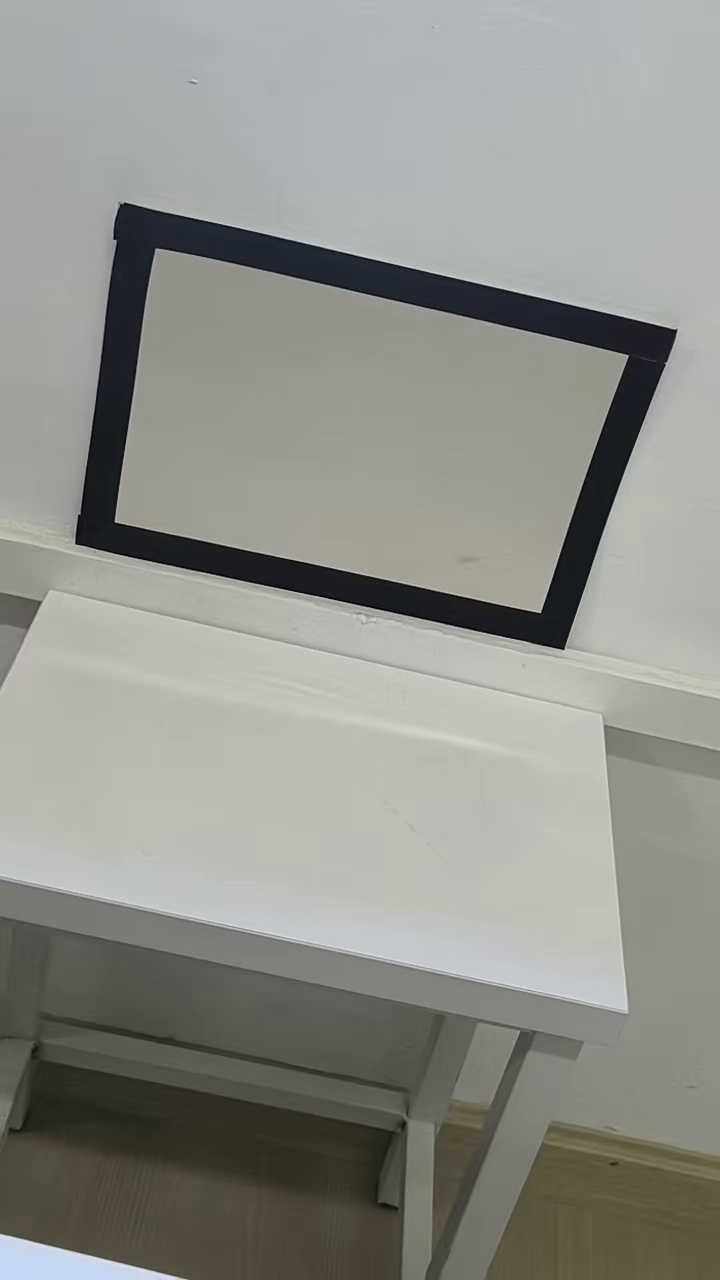board: (78, 203, 675, 649)
